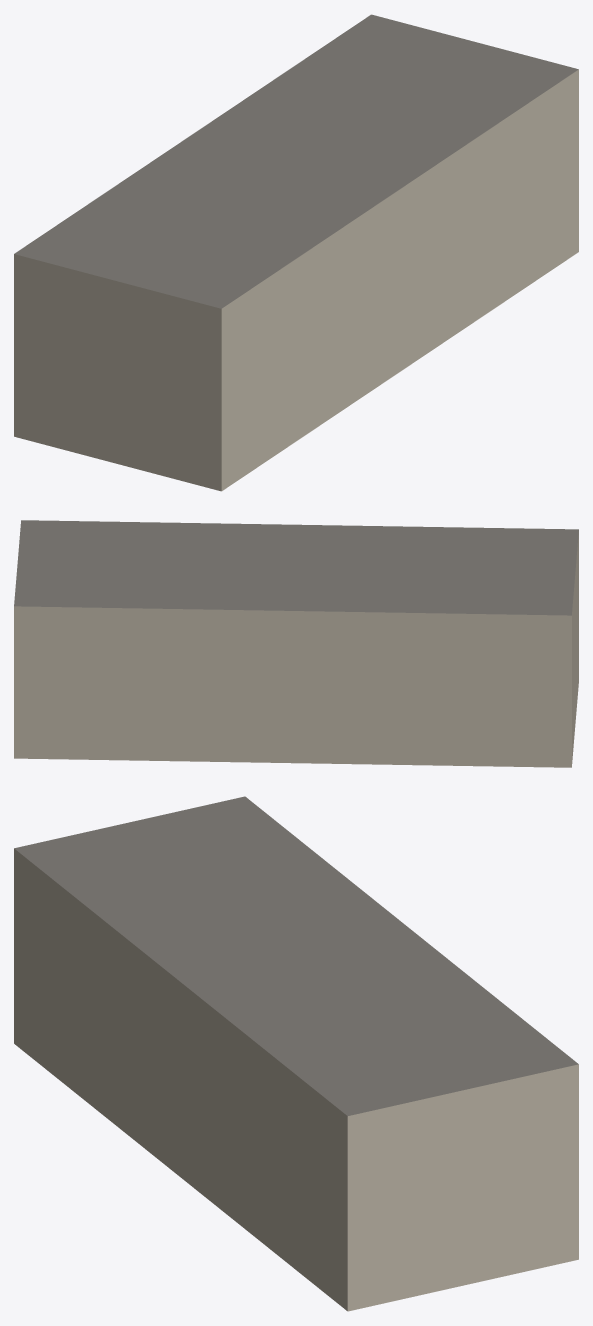
The picture shows the model from 3 angles, top to bottom: view 1: azimuth 30°, elevation 25°; view 2: azimuth 150°, elevation 25°; view 3: azimuth 270°, elevation 25°; orthographic projection. The views are drawn at different scales.
Visible parts, largest first — view 1: HP-w693448967; view 2: HP-w693448967; view 3: HP-w693448967.
Part boxes in pixels (x1,y1,x2,y2): HP-w693448967: [14, 14, 578, 491]; HP-w693448967: [14, 520, 578, 767]; HP-w693448967: [14, 796, 578, 1311].
Bounding box in the file's own units: 42.13 × 12 × 31.45.
